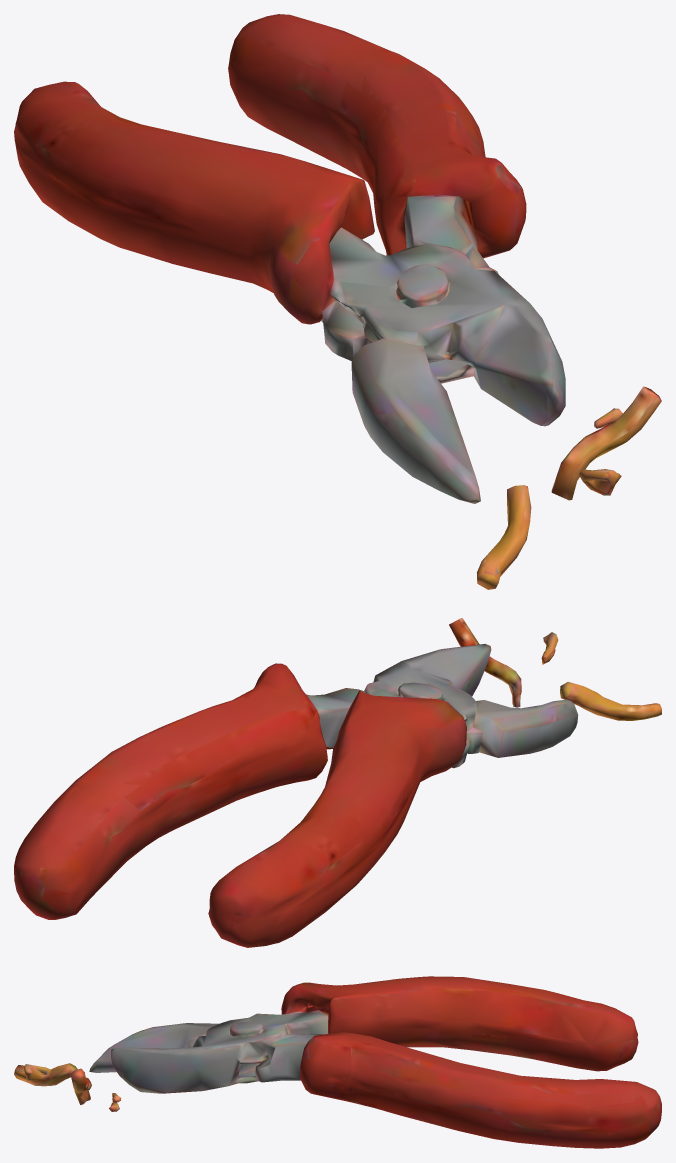
Rendered from pliers-lite.glb.
3 renders of one model, top to bottom at view 1: azimuth 30°, elevation 25°; view 2: azimuth 150°, elevation 25°; view 3: azimuth 270°, elevation 25°, orthographic. The views are drawn at different scales.
Visible parts, largest first — view 1: geometry_0; view 2: geometry_0; view 3: geometry_0.
Part boxes in pixels (<box>): geometry_0: <box>14,14,661,589</box>; geometry_0: <box>14,618,661,947</box>; geometry_0: <box>14,976,661,1148</box>.
Size of the model in its own units: 0.3872 by 0.1904 by 0.9476.
Materials: 1 (1 with a texture image).
